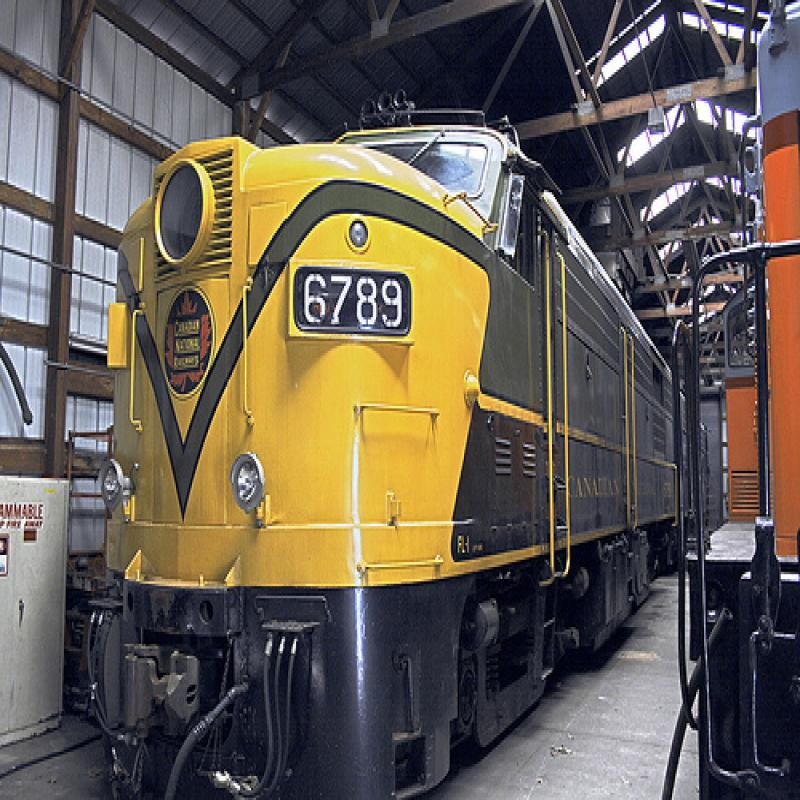train: (100, 111, 709, 800)
